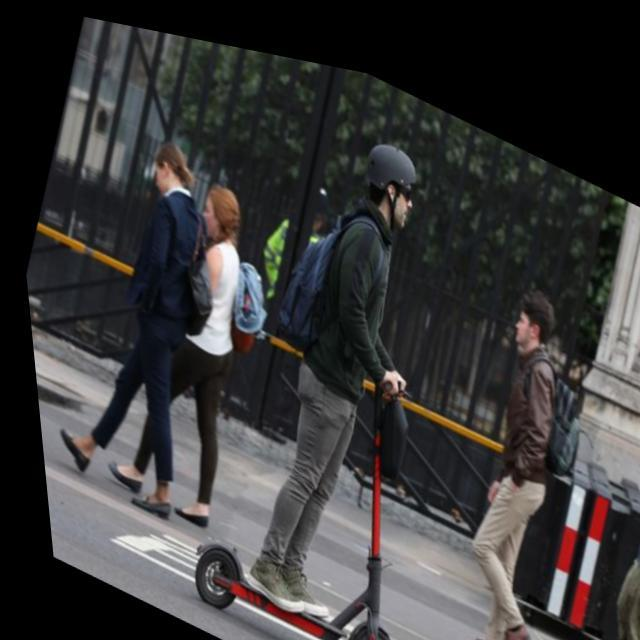Helmet: (359, 132, 426, 235)
Nonhelmet: (506, 279, 561, 361), (200, 175, 252, 250), (146, 129, 194, 197)
